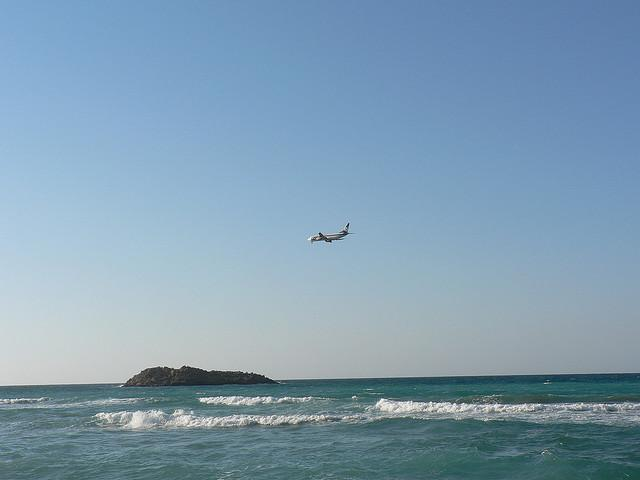airplane: (304, 221, 357, 246)
